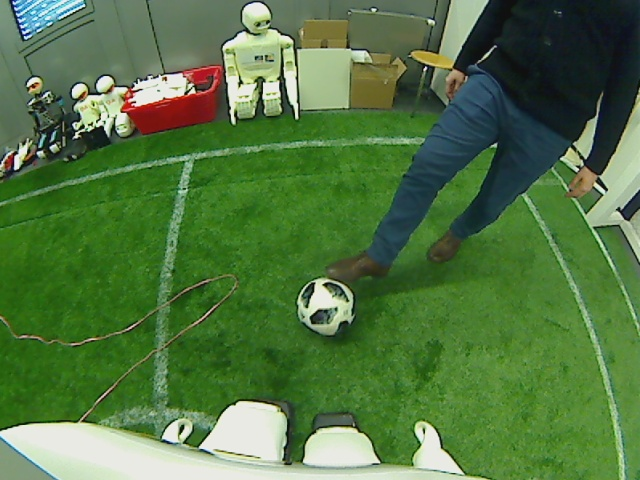ball: (293, 276, 359, 335)
